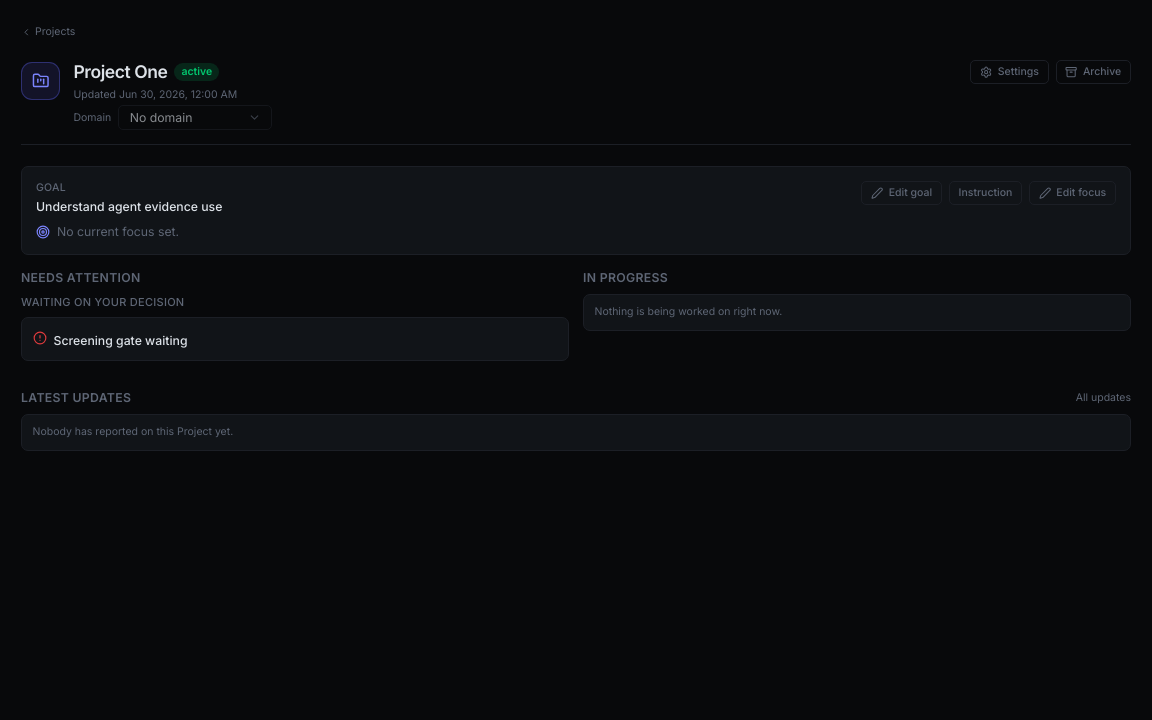
Project settings link to Source management › stays in settings while a save is in flight
Click the button "Settings" at [1010, 72], box [970,60,1049,84]
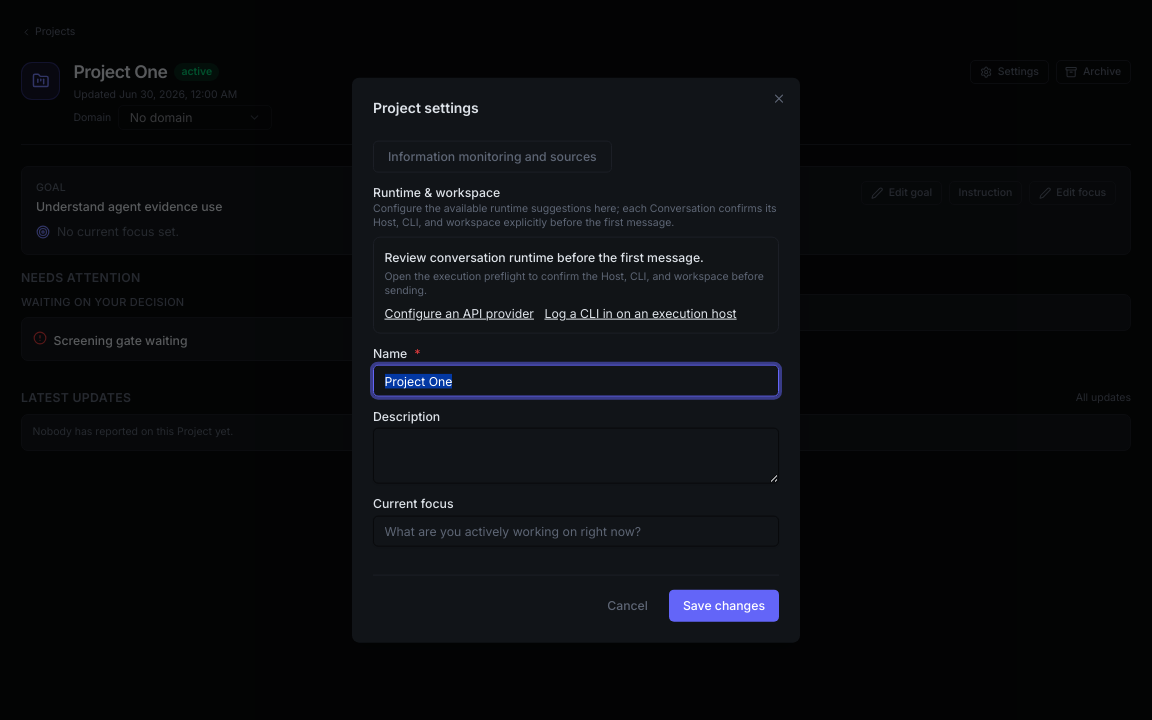
Replace the text in the field showing "Project One" with "Saved name" at [576, 381], box [373,365,779,396]
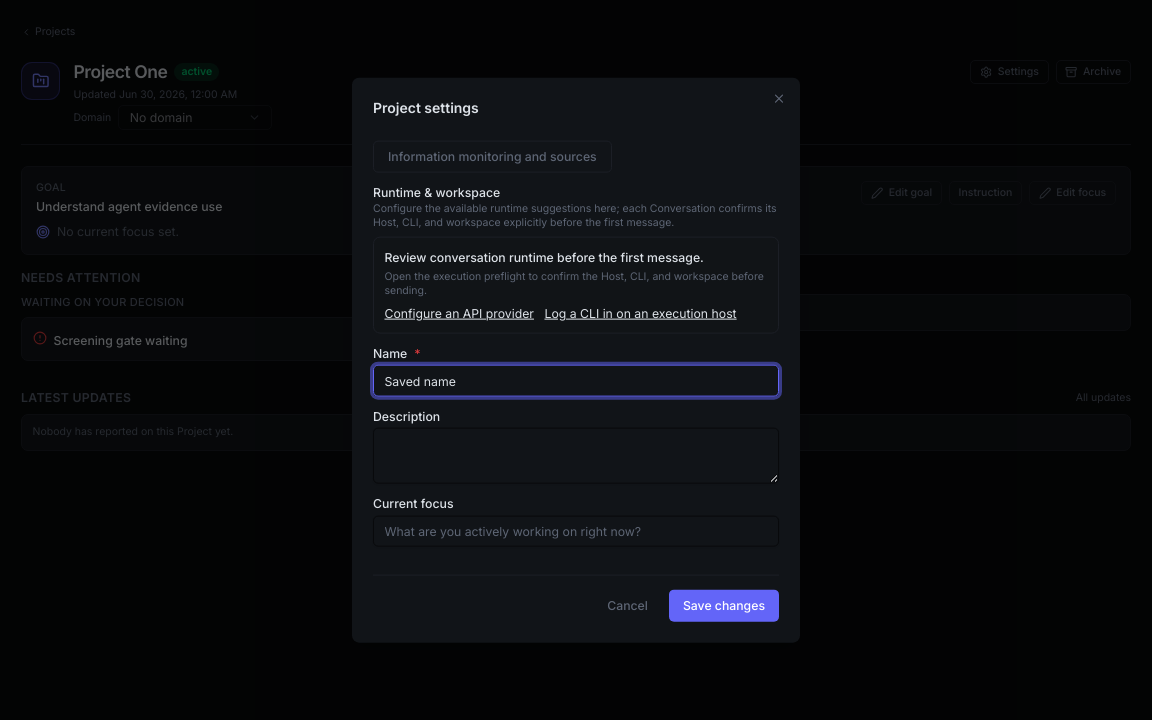
Click the button "Save changes" at [724, 606], box [669,590,779,621]
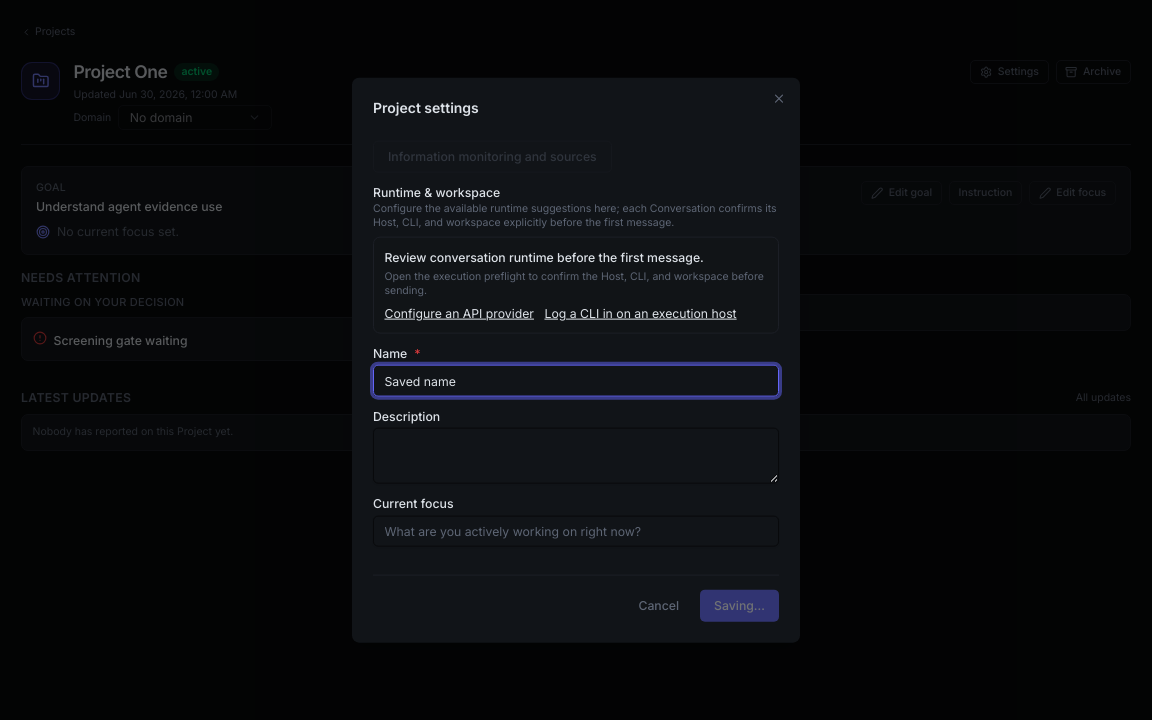
Now the link "Information monitoring and sources" is disabled
Click the link "Information monitoring and sources" at [492, 156], box [373,141,612,172]
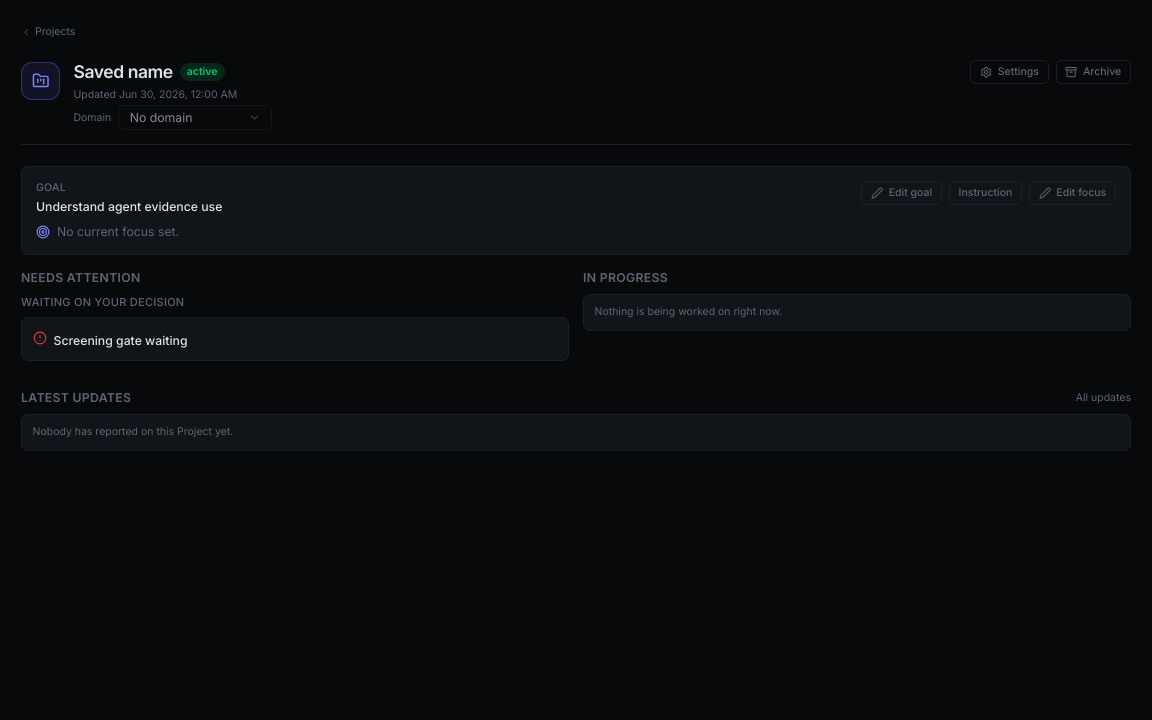
Now the heading "Project settings" is gone
